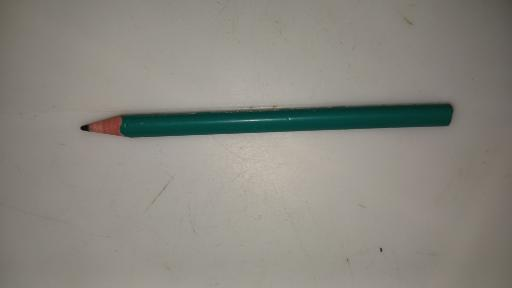Pencil: (79, 103, 452, 138)
